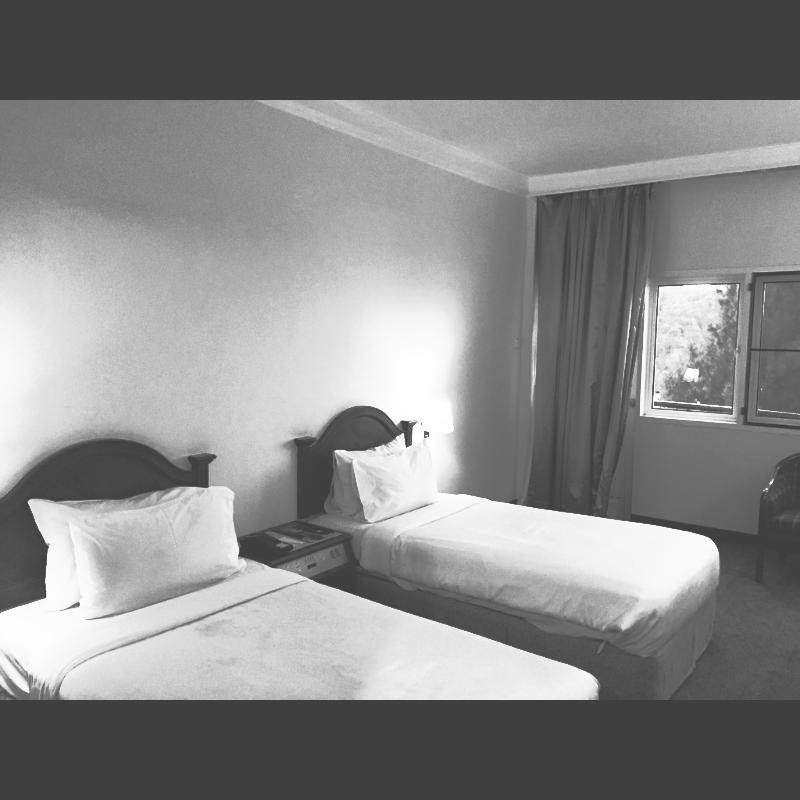pillow: (32, 485, 195, 616), (353, 438, 443, 528), (332, 438, 410, 524)
